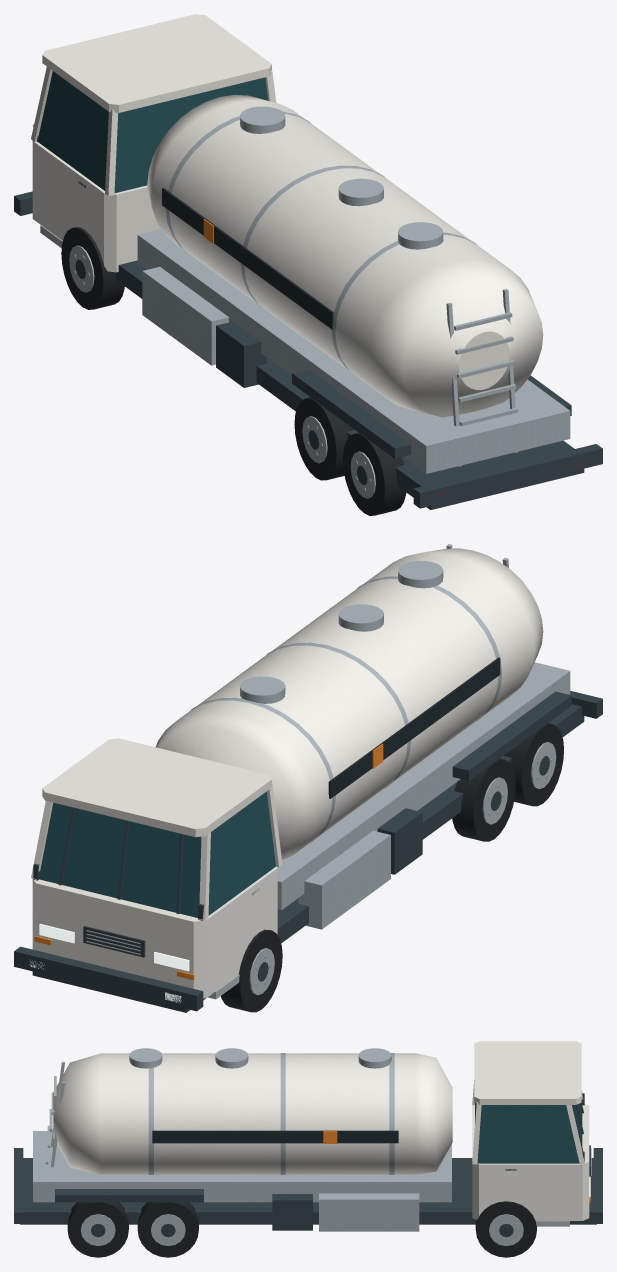
Rendered from vehicle_fuel_truck.glb.
3 renders of one model, top to bottom at view 1: azimuth 30°, elevation 25°; view 2: azimuth 150°, elevation 25°; view 3: azimuth 270°, elevation 25°, orthographic. The views are drawn at different scales.
Parts seen in each view (by area): view 1: vehicle_fuel_truck; view 2: vehicle_fuel_truck; view 3: vehicle_fuel_truck.
Part boxes in pixels (bbox=[...]): vehicle_fuel_truck: bbox=[14, 14, 602, 515]; vehicle_fuel_truck: bbox=[14, 544, 602, 1012]; vehicle_fuel_truck: bbox=[14, 1041, 602, 1257].
Bounding box in the file's own units: 2.6 × 3.2 × 10.
10 materials, 10 textured.
